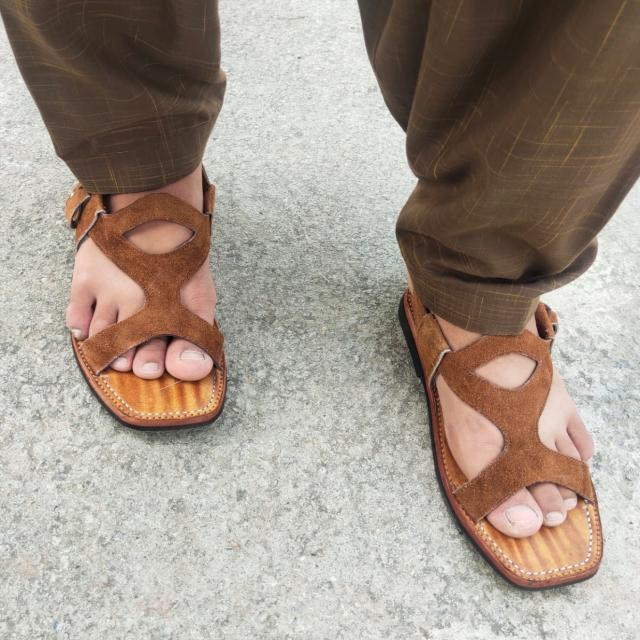Sandals: (396, 272, 605, 588), (63, 170, 228, 428)
